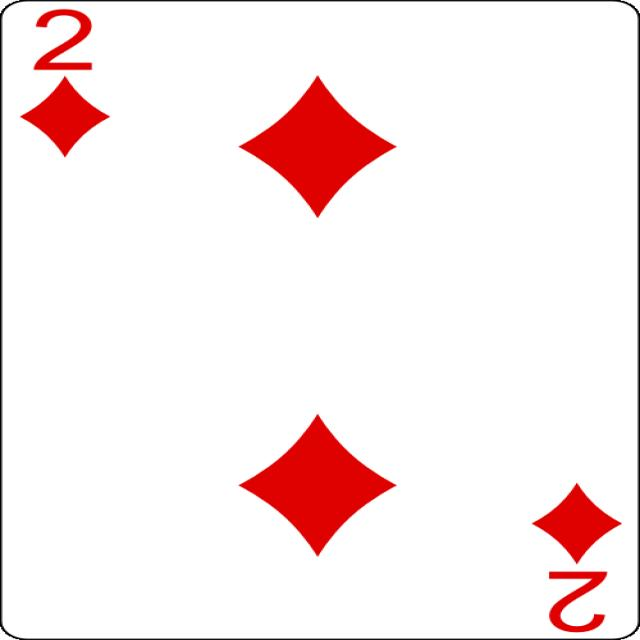Diamond: (237, 75, 397, 219), (238, 413, 398, 557), (18, 75, 111, 158), (532, 482, 624, 564)
